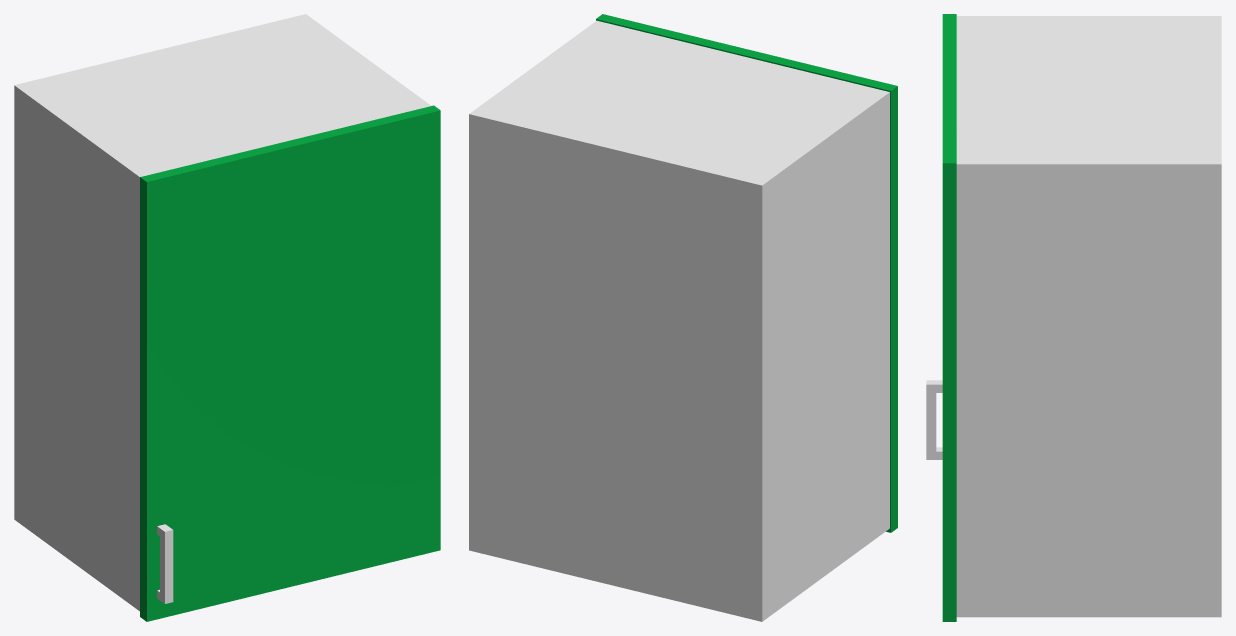
File: kitchen_item_051.glb
3 views of the same model, side by side, from view 1: azimuth 30°, elevation 25°; view 2: azimuth 150°, elevation 25°; view 3: azimuth 270°, elevation 25° (orthographic). The views are drawn at different scales.
Parts seen in each view (by area): view 1: kitchen_item_051; view 2: kitchen_item_051; view 3: kitchen_item_051.
Part boxes in pixels (x1,y1,x2,y2): kitchen_item_051: (14,14,440,621); kitchen_item_051: (469,14,897,621); kitchen_item_051: (926,14,1221,621).
Bounding box in the file's own units: 0.6194 × 0.8859 × 0.5174.
Materials: 1 (1 with a texture image).
